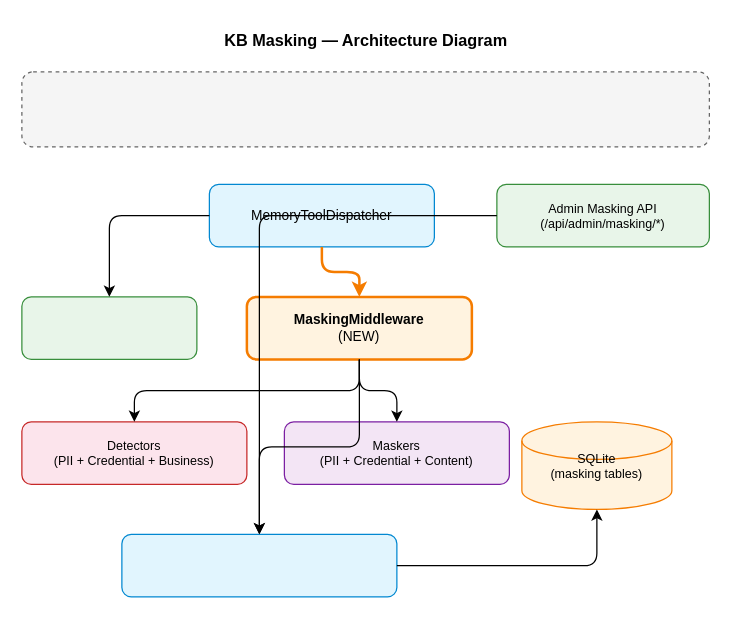
This 731x619 diagram has some shape labels left out. Each missing label, with the centre of its shape:
MCP Transport Layer: pixel 365 109
MemoryEngine: pixel 109 327
Services (Config + Allowlist + Classify + Audit): pixel 259 565
